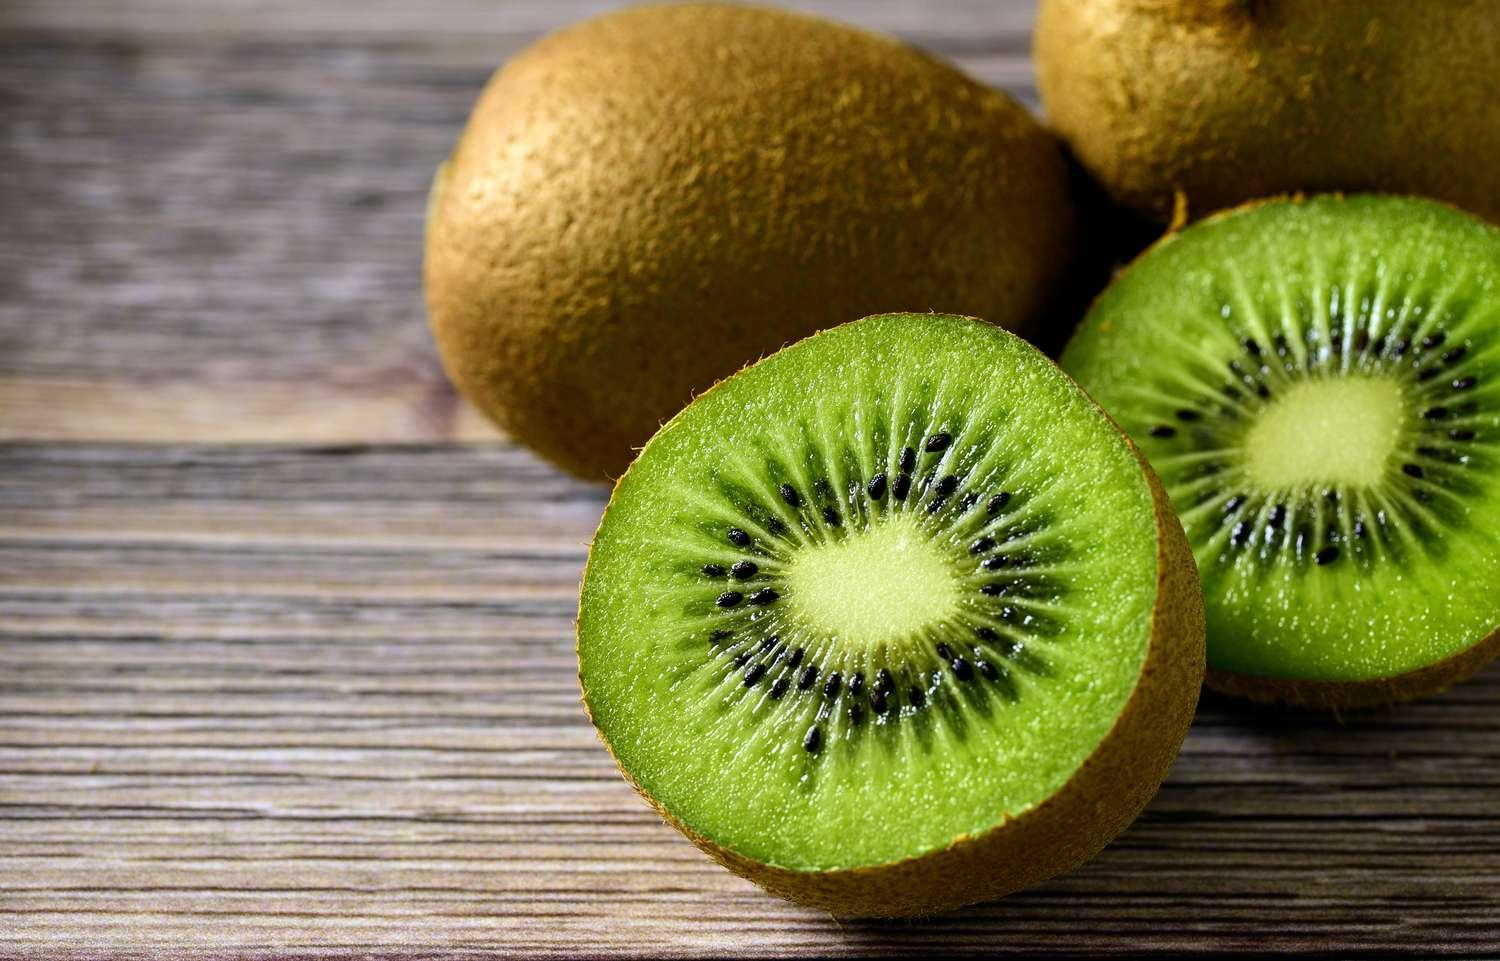kiwi: (581, 303, 1217, 904), (1134, 171, 1500, 703)
